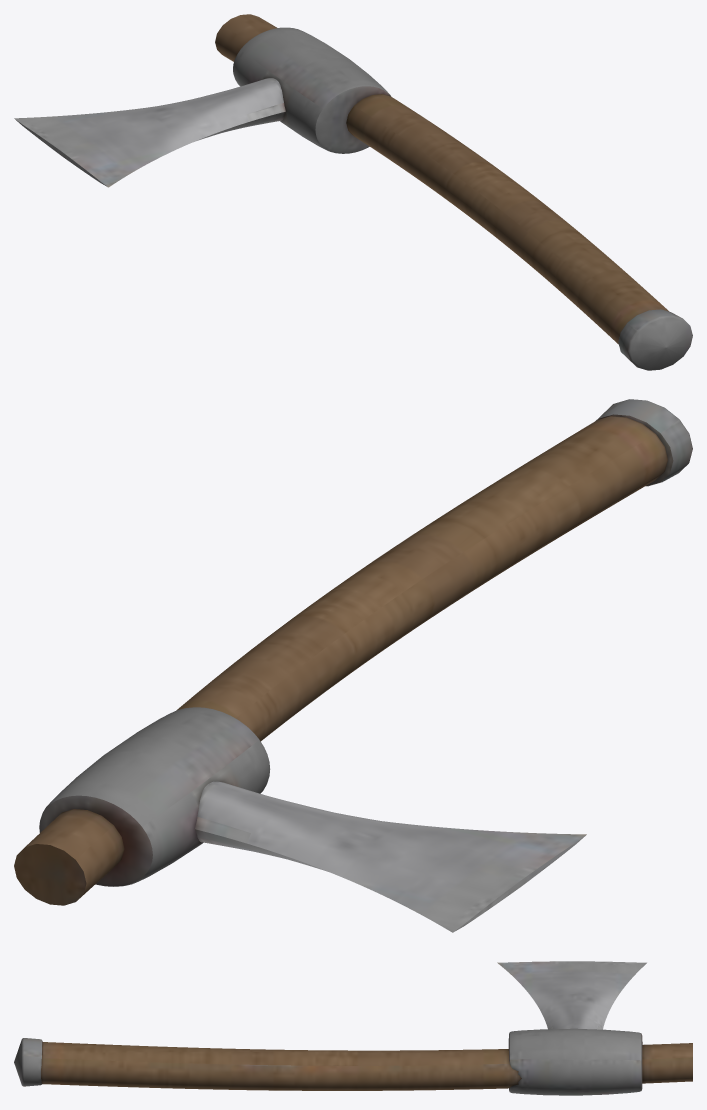
Rendered from throwing_axe.glb.
3 views of the same model, one above another, from view 1: azimuth 30°, elevation 25°; view 2: azimuth 150°, elevation 25°; view 3: azimuth 270°, elevation 25° (orthographic). The views are drawn at different scales.
Parts seen in each view (by area): view 1: throwing_axe; view 2: throwing_axe; view 3: throwing_axe.
Part boxes in pixels (x1,y1,x2,y2): throwing_axe: (14,14,692,370); throwing_axe: (14,399,692,932); throwing_axe: (14,961,692,1095).
Bounding box in the file's own units: 0.167 × 0.0378 × 0.405.
1 material, 1 textured.
